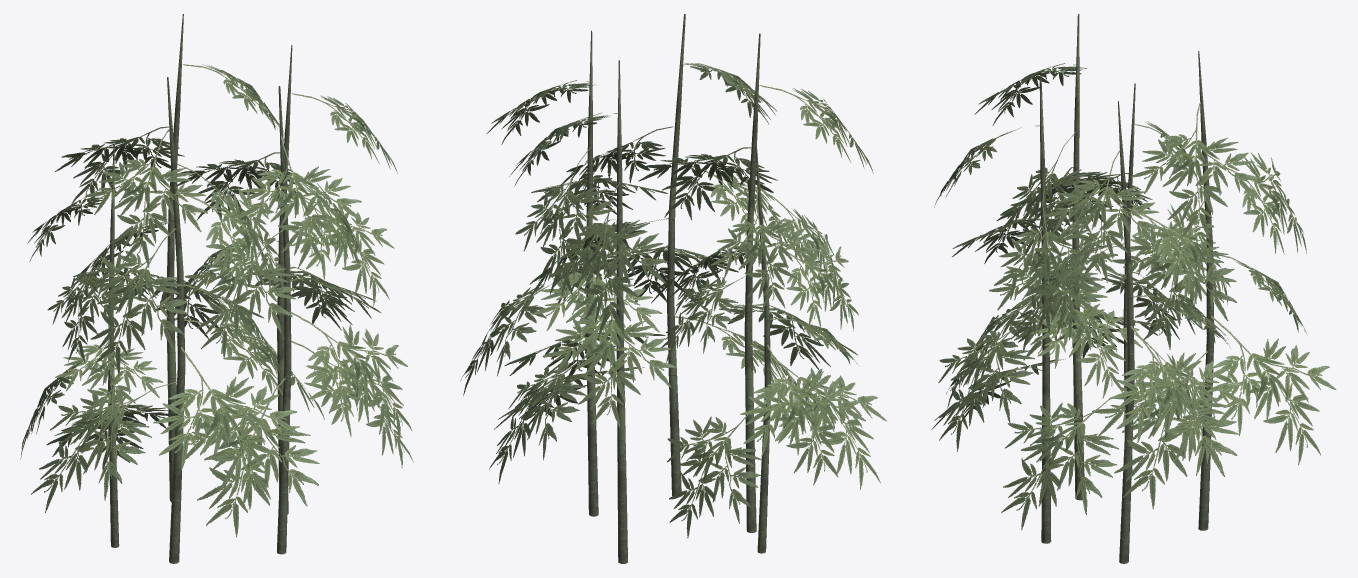
Rendered from Bamboo01.fbx.
The picture shows the model from 3 angles, left to right: view 1: azimuth 30°, elevation 25°; view 2: azimuth 150°, elevation 25°; view 3: azimuth 270°, elevation 25°; orthographic projection. The views are drawn at different scales.
Visible parts, largest first — view 1: Bamboo01; view 2: Bamboo01; view 3: Bamboo01.
Part boxes in pixels (bbox=[...]): Bamboo01: bbox=[20, 14, 413, 563]; Bamboo01: bbox=[460, 14, 886, 563]; Bamboo01: bbox=[931, 14, 1336, 563].
Bounding box in the file's own units: 194 × 234 × 188.
